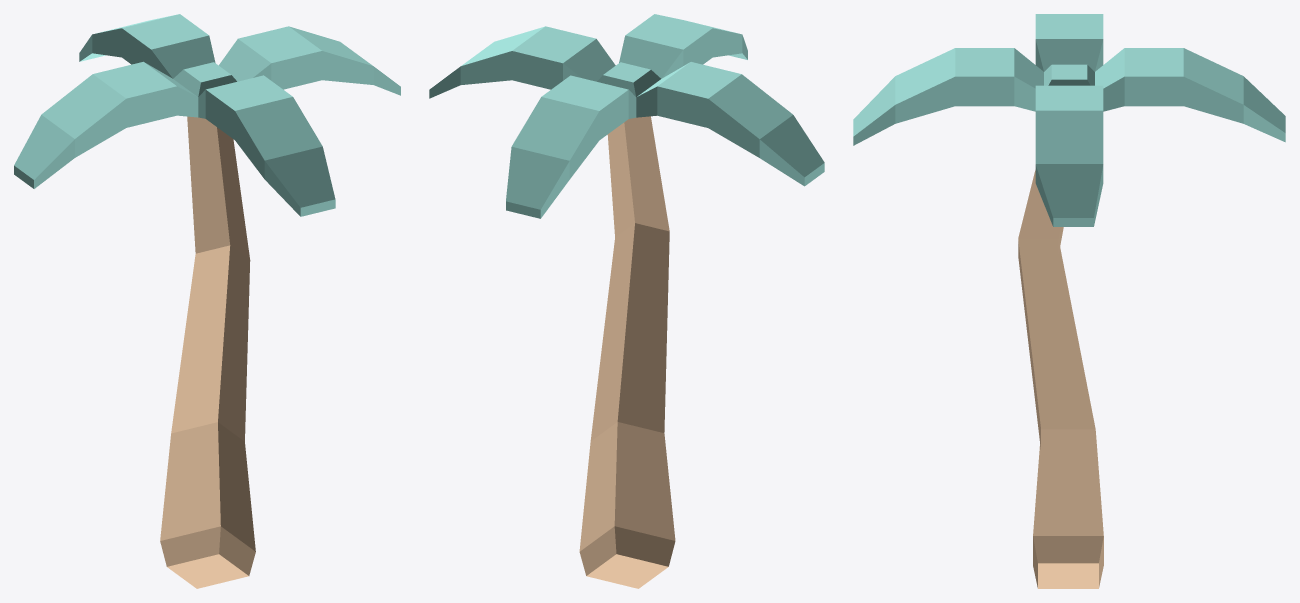
The model's file is palm_large.glb.
The picture shows the model from 3 angles, left to right: view 1: azimuth 30°, elevation 25°; view 2: azimuth 150°, elevation 25°; view 3: azimuth 270°, elevation 25°; orthographic projection.
Parts seen in each view (by area): view 1: Group 142, Group 140; view 2: Group 142, Group 140; view 3: Group 142, Group 140.
Part boxes in pixels (<box>): Group 142: <box>14,14,400,216</box>; Group 140: <box>160,116,255,588</box>; Group 142: <box>429,14,824,218</box>; Group 140: <box>579,116,675,588</box>; Group 142: <box>853,14,1285,226</box>; Group 140: <box>1018,170,1103,588</box>.
Size of the model in its own units: 7.72 by 10.12 by 7.72.
